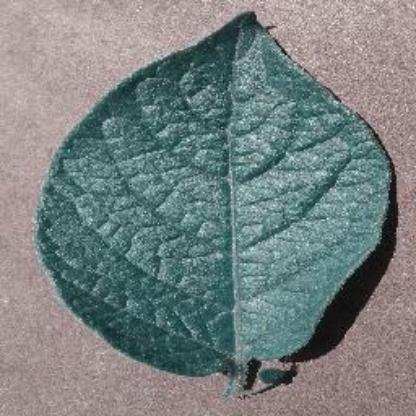Healthy-plant: (30, 8, 395, 388)
